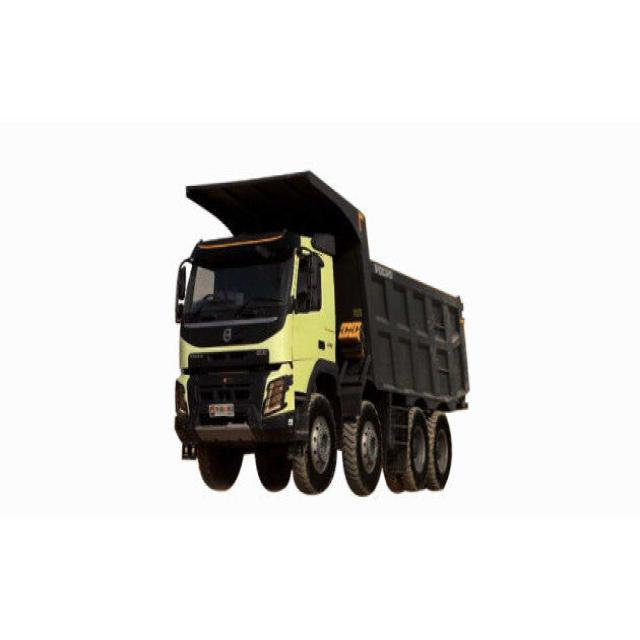dump_truck: (146, 160, 472, 500)
